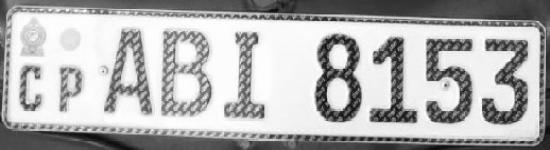1: (365, 31, 420, 128)
3: (477, 35, 534, 131)
5: (420, 28, 476, 128)
8: (306, 28, 365, 127)
A: (96, 21, 157, 123)
B: (157, 24, 216, 122)
C: (12, 61, 46, 115)
I: (214, 26, 278, 125)
P: (46, 62, 90, 117)
